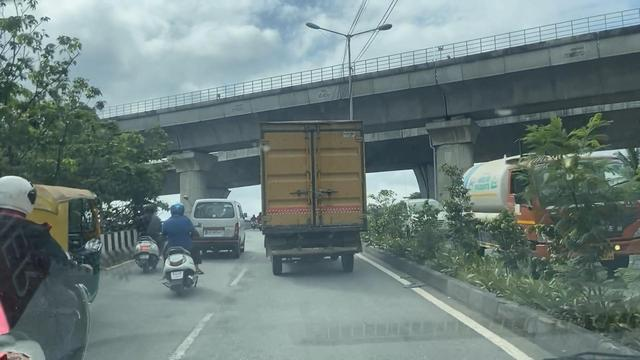HMV: (260, 124, 368, 280)
LMV: (156, 201, 200, 291)
